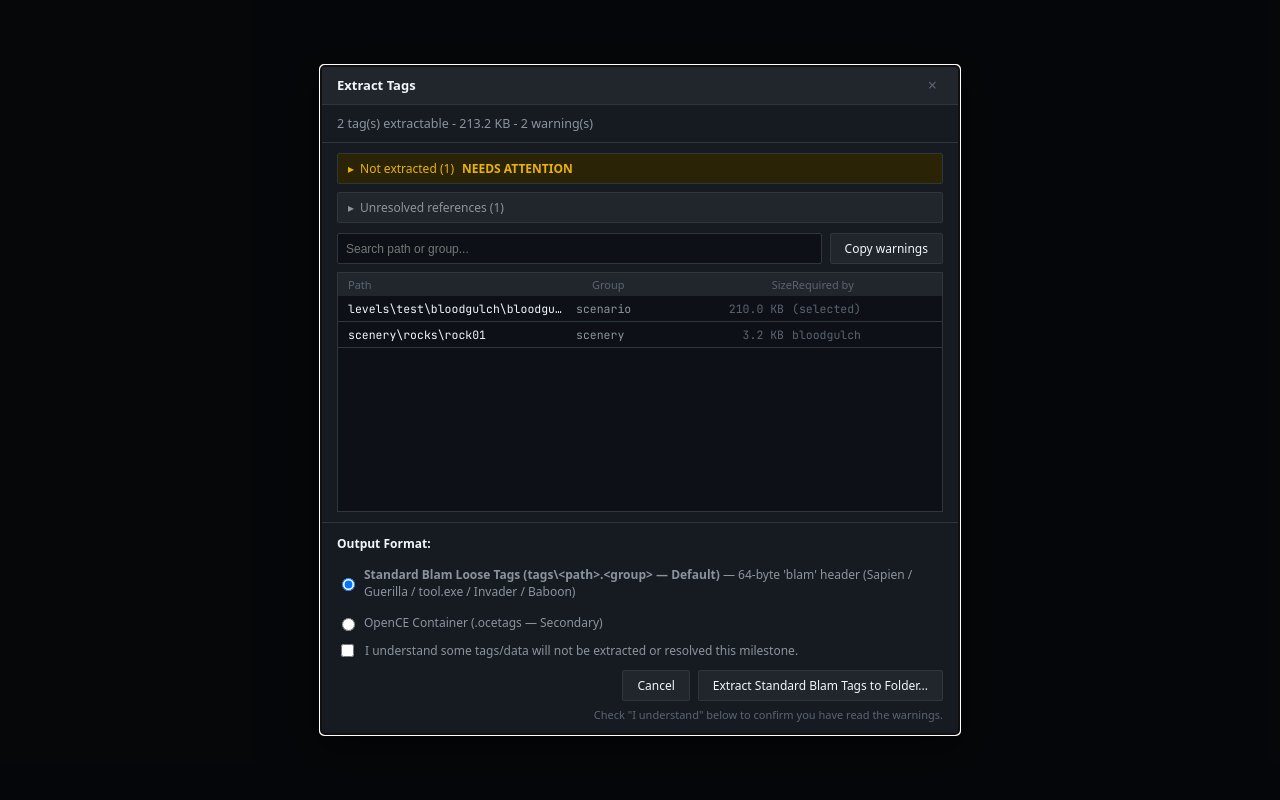
Test: DependencyDialog › scenario with BSP: shows "Not extracted" group and gates confirm on the checkbox
Expected: the element with test id "warning-group-not-extracted" is shown, x1=337 y1=153 x2=943 y2=184
Expected: the button with test id "dependency-confirm-button" is disabled, x1=698 y1=670 x2=943 y2=701
Click the checkbox with test id "dependency-understand-checkbox". click: click(348, 650)
box: x1=341 y1=644 x2=354 y2=657
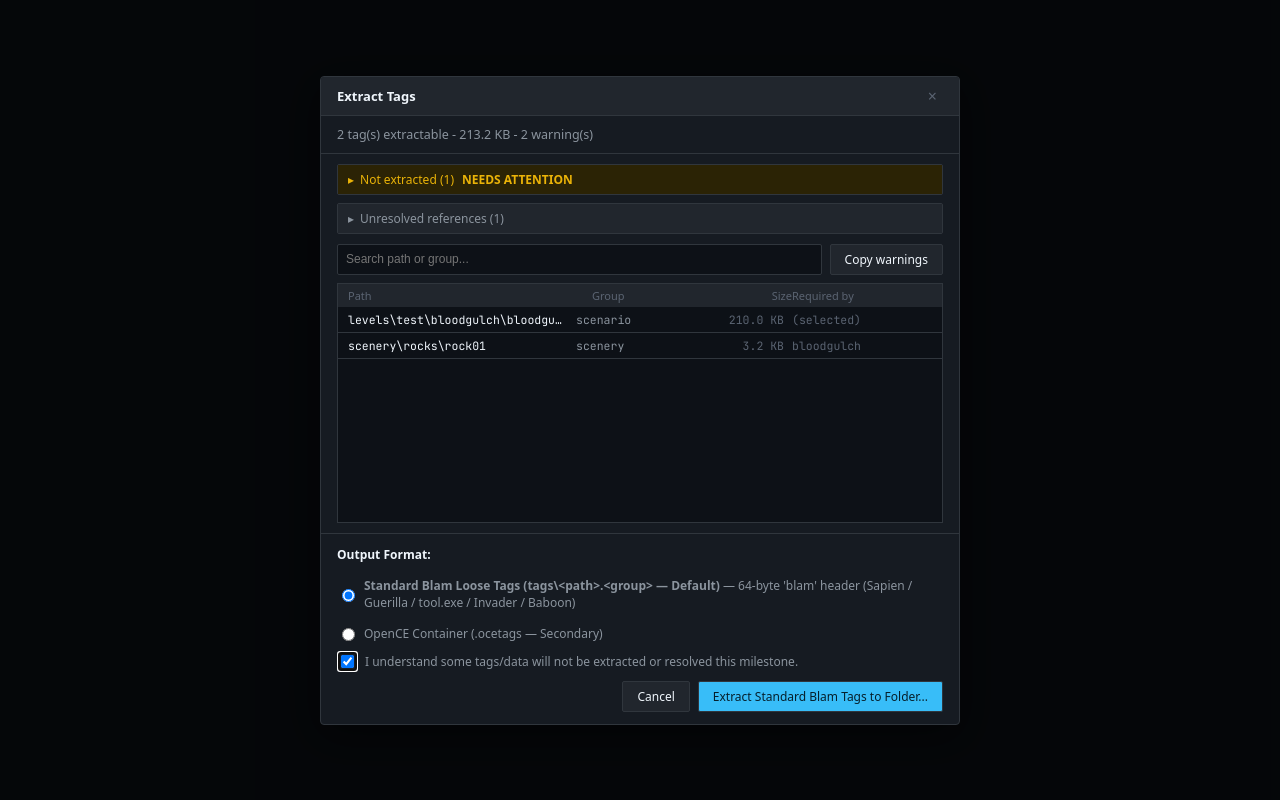
Result: the button with test id "dependency-confirm-button" is enabled at x1=698 y1=680 x2=943 y2=712
